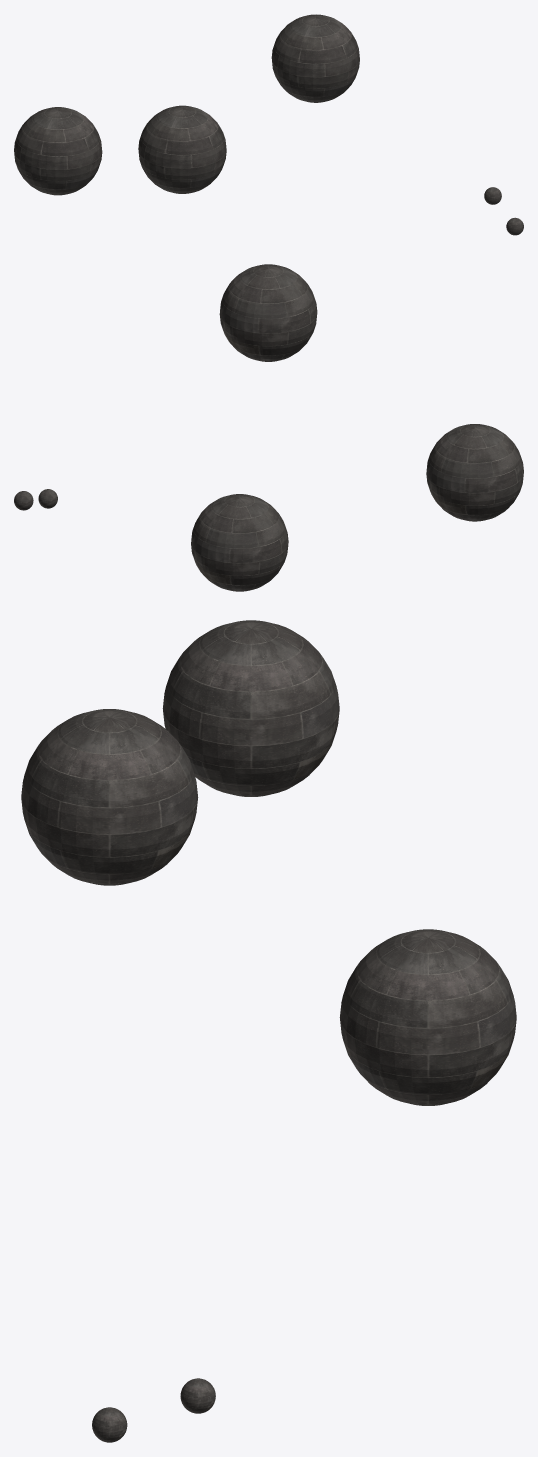
The model's file is world3.obj.
3 renders of one model, top to bottom at view 1: azimuth 30°, elevation 25°; view 2: azimuth 150°, elevation 25°; view 3: azimuth 270°, elevation 25°, orthographic. The views are drawn at different scales.
Parts seen in each view (by area): view 1: Sphere.002, Sphere.004, Sphere.003; view 2: Sphere.004, Sphere.002, Sphere.003; view 3: Sphere.002, Sphere.004, Sphere.003, Sphere.001, Sphere.
Part boxes in pixels (x1,y1,x2,y2): Sphere.002: (271,14,359,102); Sphere.004: (138,105,226,193); Sphere.003: (14,107,102,195); Sphere.004: (191,494,288,591); Sphere.002: (219,264,317,361); Sphere.003: (426,424,523,521); Sphere.002: (21,709,198,885); Sphere.004: (339,929,516,1105); Sphere.003: (162,620,339,796); Sphere.001: (180,1378,215,1413); Sphere: (92,1407,127,1442).
Bounding box in the file's own units: 61 × 33 × 28.
